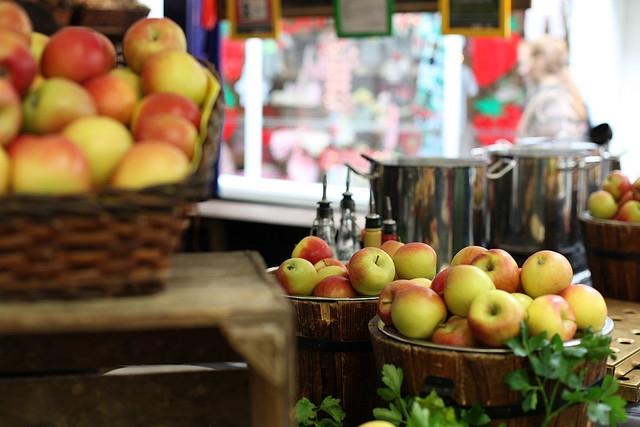apple: (56, 116, 134, 190), (8, 132, 95, 197), (40, 26, 119, 86), (106, 140, 192, 192), (20, 76, 96, 134), (140, 48, 208, 106), (123, 15, 187, 74), (467, 289, 526, 347), (438, 264, 497, 318), (136, 112, 198, 163), (80, 74, 139, 127), (391, 286, 447, 339), (520, 250, 574, 299), (0, 29, 38, 98), (559, 284, 607, 338), (524, 294, 577, 341), (468, 249, 520, 294), (348, 247, 395, 296), (378, 280, 422, 326), (392, 242, 438, 281), (275, 258, 318, 296), (0, 0, 33, 49), (0, 78, 23, 146), (432, 315, 481, 346), (292, 236, 334, 266), (107, 66, 143, 99), (313, 275, 359, 297), (601, 170, 632, 202), (587, 191, 617, 219), (451, 246, 488, 268), (430, 267, 452, 302), (0, 142, 12, 196), (317, 266, 350, 285), (380, 236, 405, 260), (509, 292, 534, 316), (314, 258, 348, 274), (618, 200, 640, 222), (358, 420, 397, 427), (409, 278, 432, 288), (632, 178, 638, 202)
